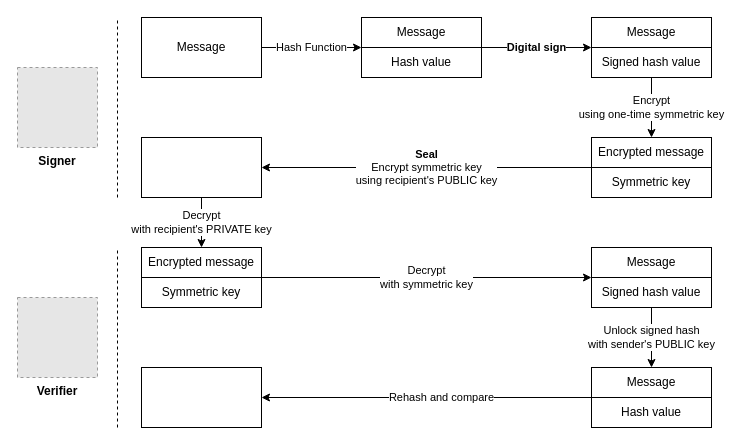
Some shapes in this 742 by 446 pixel diagram are drawn without their labels. Grey dashed boxes stand in for pictures. The shapes that lost their labels are listed below. From the top down, each one's box as (x1, y1, x2, y2) in pixels, then its label:
(140, 136, 262, 198): Sealed message
(140, 366, 262, 428): Verified message
